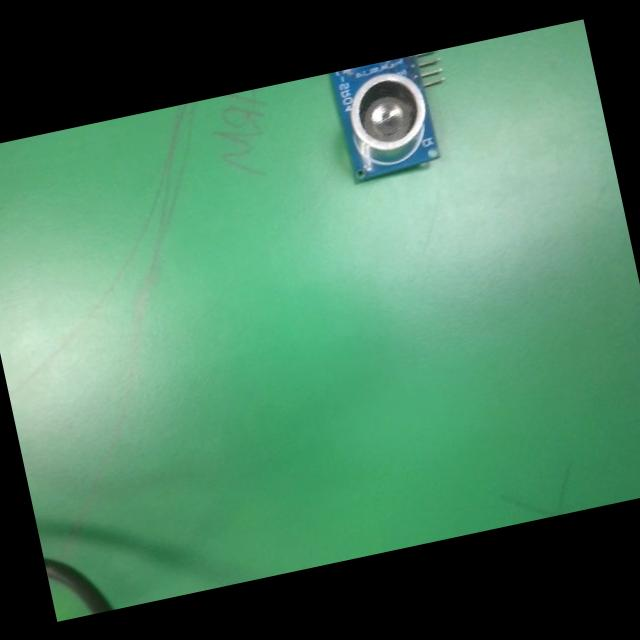ultrasonic_hc-sr04: (329, 49, 464, 184)
